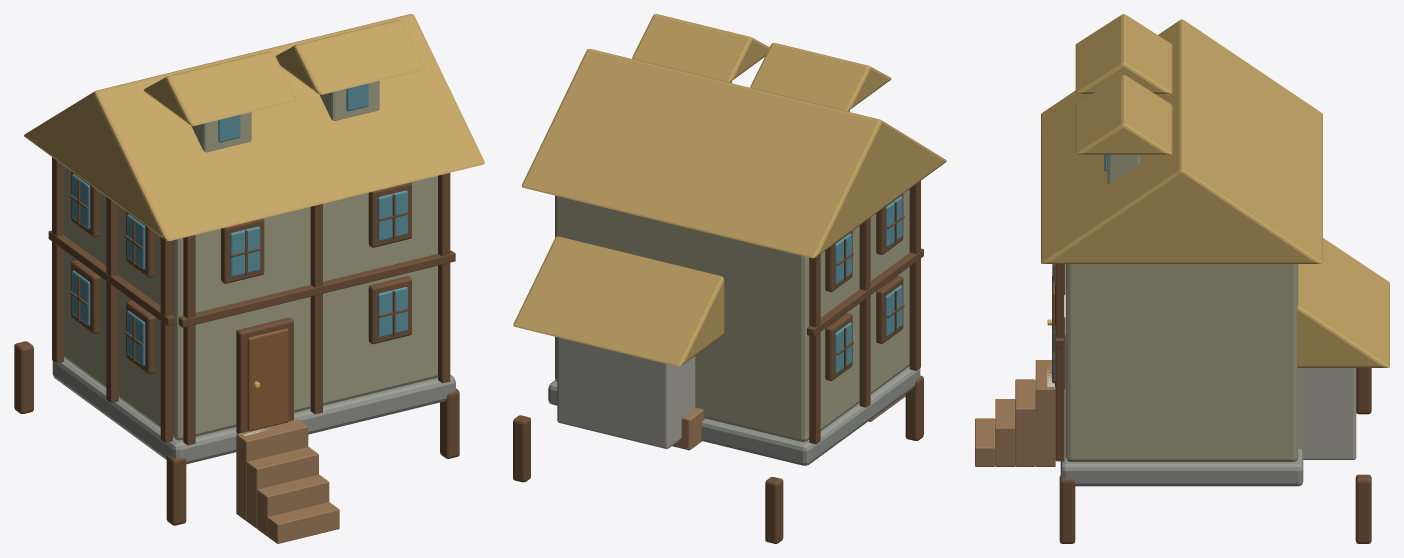
The model's file is wetland-townhouse-3.glb.
The picture shows the model from 3 angles, left to right: view 1: azimuth 30°, elevation 25°; view 2: azimuth 150°, elevation 25°; view 3: azimuth 270°, elevation 25°; orthographic projection. The views are drawn at different scales.
Parts seen in each view (by area): view 1: Golden thatch, Weathered planks, Dark beams, Aged oak, Foundation stone, Blue glass, Door oak; view 2: Golden thatch, Weathered planks, Dark beams, Fieldstone, Foundation stone, Blue glass, Aged oak; view 3: Golden thatch, Weathered planks, Foundation stone, Aged oak, Fieldstone, Dark beams.
Part boxes in pixels (bbox=[...]): Golden thatch: bbox=[24, 14, 484, 241]; Weathered planks: bbox=[64, 81, 437, 440]; Dark beams: bbox=[14, 157, 459, 525]; Aged oak: bbox=[236, 419, 339, 543]; Foundation stone: bbox=[52, 358, 455, 464]; Blue glass: bbox=[72, 83, 407, 365]; Door oak: bbox=[247, 328, 288, 431]; Golden thatch: bbox=[513, 14, 946, 366]; Weathered planks: bbox=[555, 81, 909, 441]; Dark beams: bbox=[513, 181, 923, 543]; Fieldstone: bbox=[557, 337, 695, 448]; Foundation stone: bbox=[548, 366, 920, 465]; Blue glass: bbox=[835, 196, 902, 373]; Aged oak: bbox=[672, 394, 905, 450]; Golden thatch: bbox=[1041, 14, 1389, 367]; Weathered planks: bbox=[1065, 154, 1298, 461]; Foundation stone: bbox=[1060, 334, 1303, 486]; Aged oak: bbox=[975, 360, 1055, 466]; Fieldstone: bbox=[1298, 368, 1356, 459]; Dark beams: bbox=[1052, 264, 1371, 543].
Bounding box in the file's own units: 4.1 × 5.14 × 4.73.
